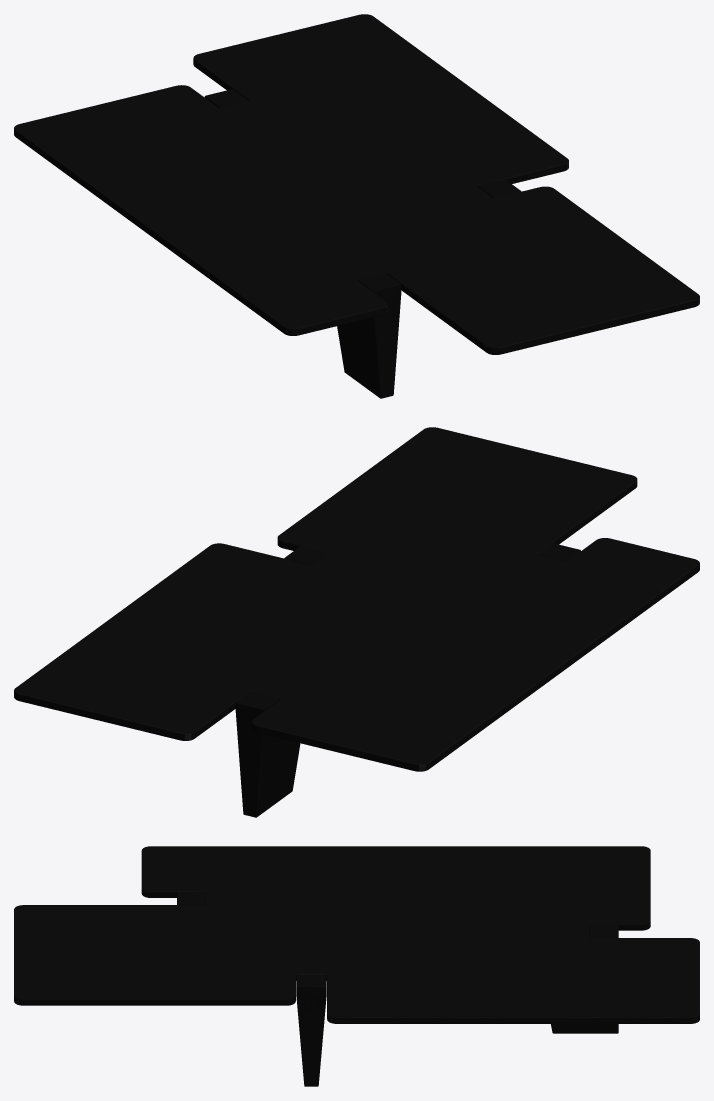
The model's file is Cabinet_Shelf_Desk_06791438-cfa8-4e29-95cc-4ff8107e3456_4.glb.
3 views of the same model, one above another, from view 1: azimuth 30°, elevation 25°; view 2: azimuth 150°, elevation 25°; view 3: azimuth 270°, elevation 25° (orthographic). The views are drawn at different scales.
Visible parts, largest first — view 1: Cabinet_Shelf_Desk_06791438-cfa8-4e29-95cc-4ff8107e3456_4.ob; view 2: Cabinet_Shelf_Desk_06791438-cfa8-4e29-95cc-4ff8107e3456_4.ob; view 3: Cabinet_Shelf_Desk_06791438-cfa8-4e29-95cc-4ff8107e3456_4.ob.
Boxes of the visible parts, x1,y1,x2,y2 form: Cabinet_Shelf_Desk_06791438-cfa8-4e29-95cc-4ff8107e3456_4.ob: (14,14,699,398); Cabinet_Shelf_Desk_06791438-cfa8-4e29-95cc-4ff8107e3456_4.ob: (14,427,699,817); Cabinet_Shelf_Desk_06791438-cfa8-4e29-95cc-4ff8107e3456_4.ob: (14,846,699,1086).
Bounding box in the file's own units: 0.2456 × 0.067 × 0.4155.
1 material, 1 textured.
